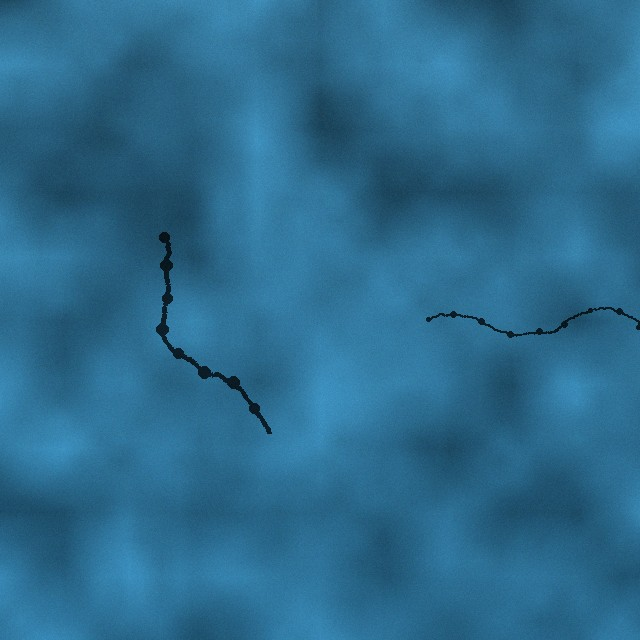crack: (155, 230, 276, 440), (424, 303, 639, 339)
